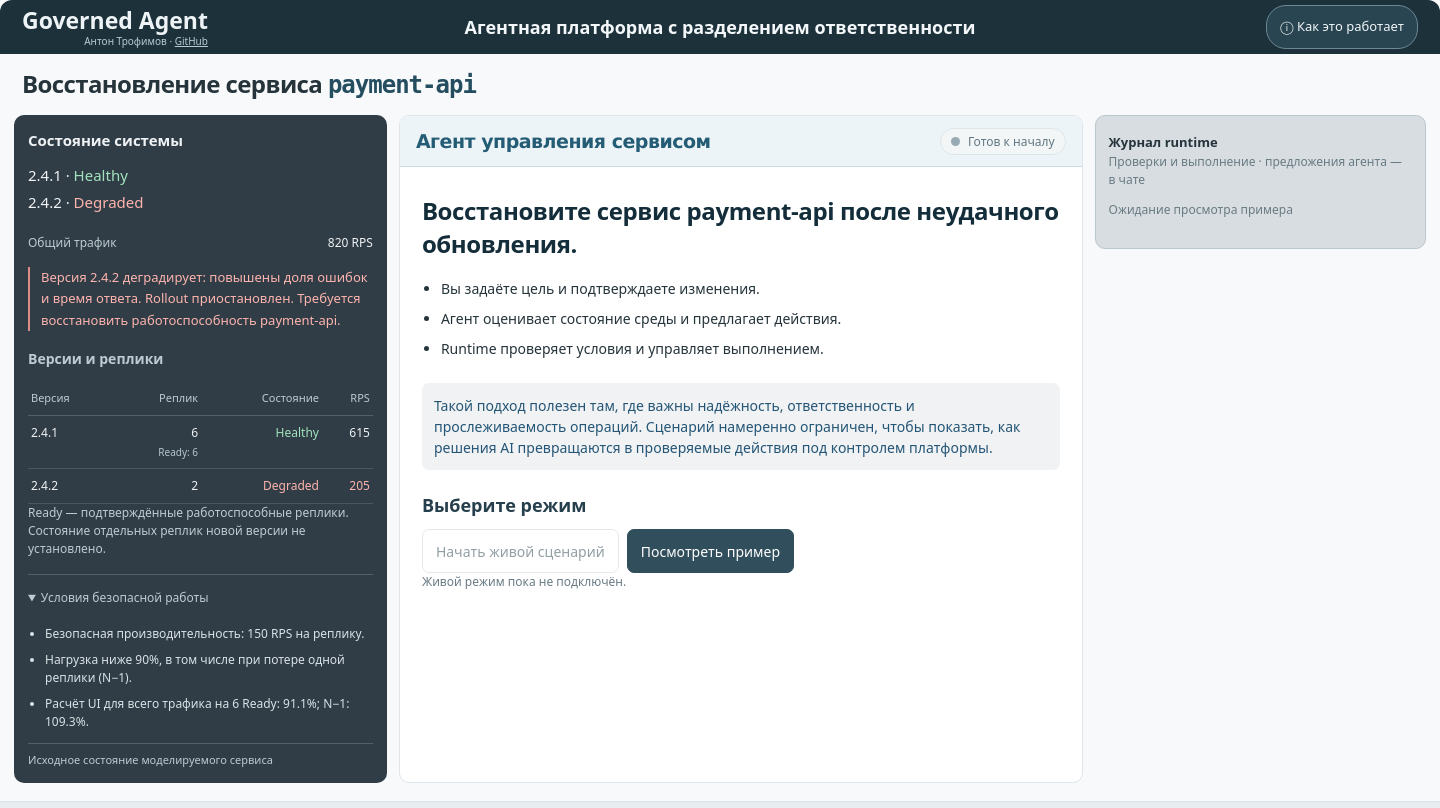
Scenario: ignores a stale response
The width and height of the screenshot is (1440, 808).
Click the button "Посмотреть пример".
click(710, 551)  # box [627,529,794,573]
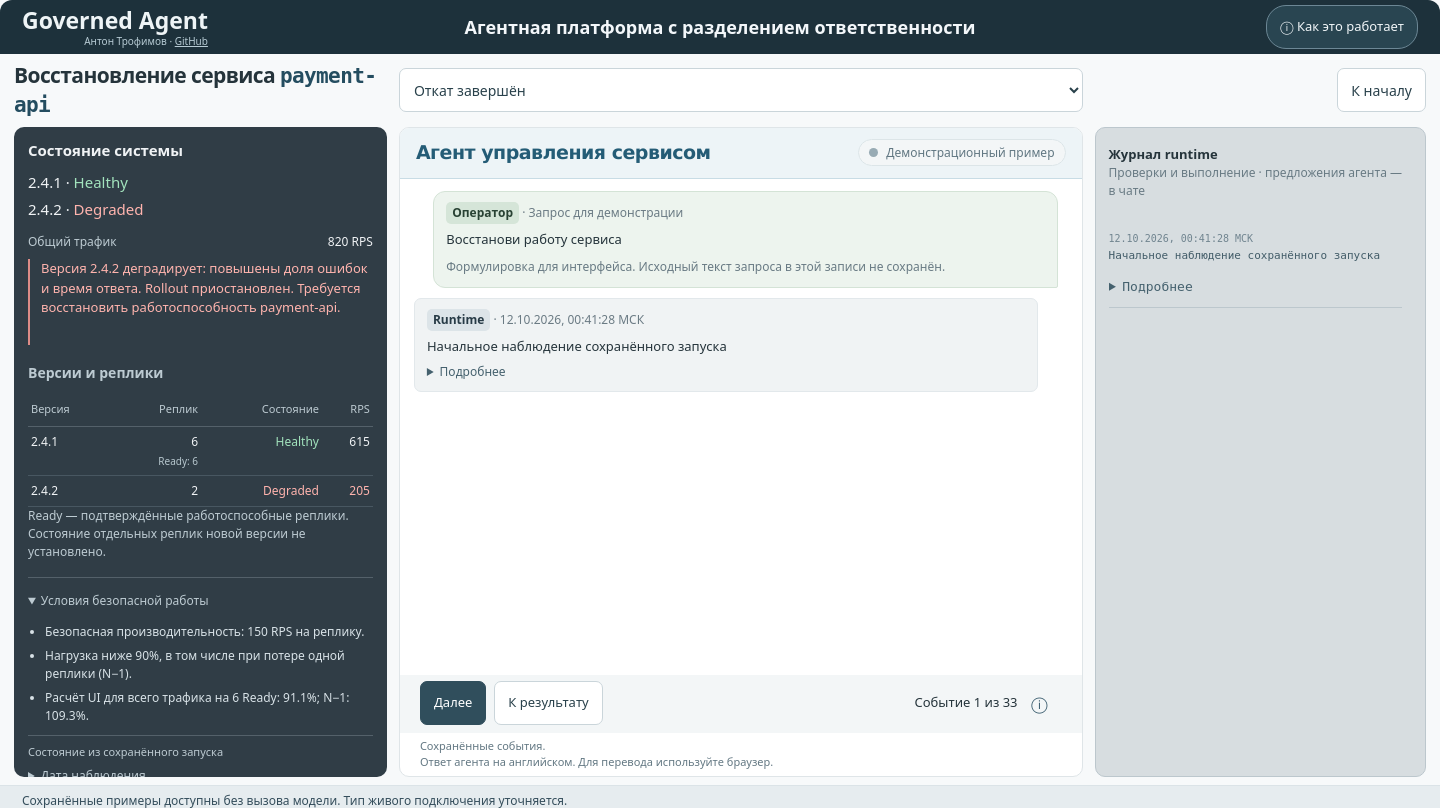
Select "Остановлено после проверки восстановления" in the dropdown named "Демонстрационный пример" at (741, 90), box [399,68,1082,112]
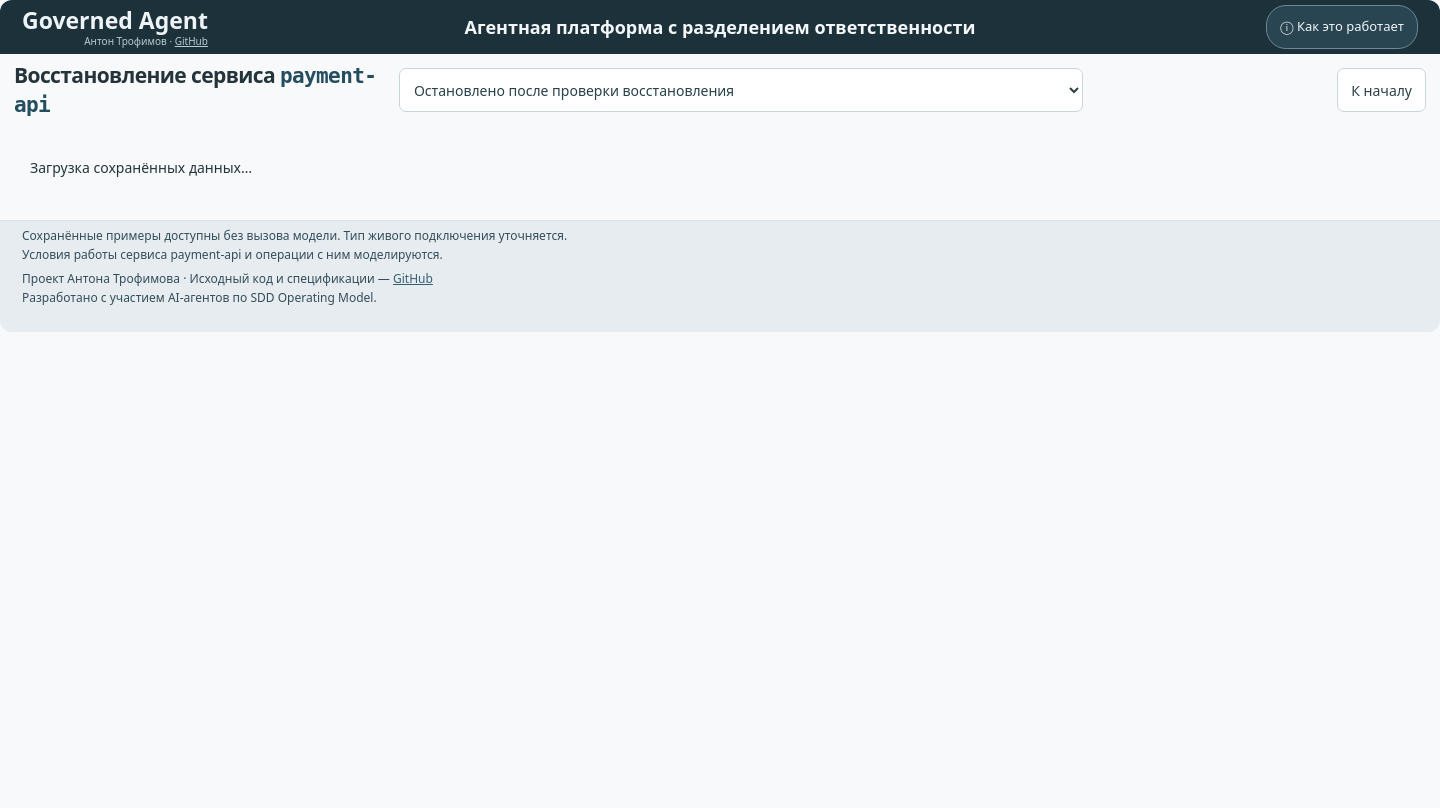
Select "Откат завершён" in the dropdown named "Демонстрационный пример" at (741, 90), box [399,68,1082,112]
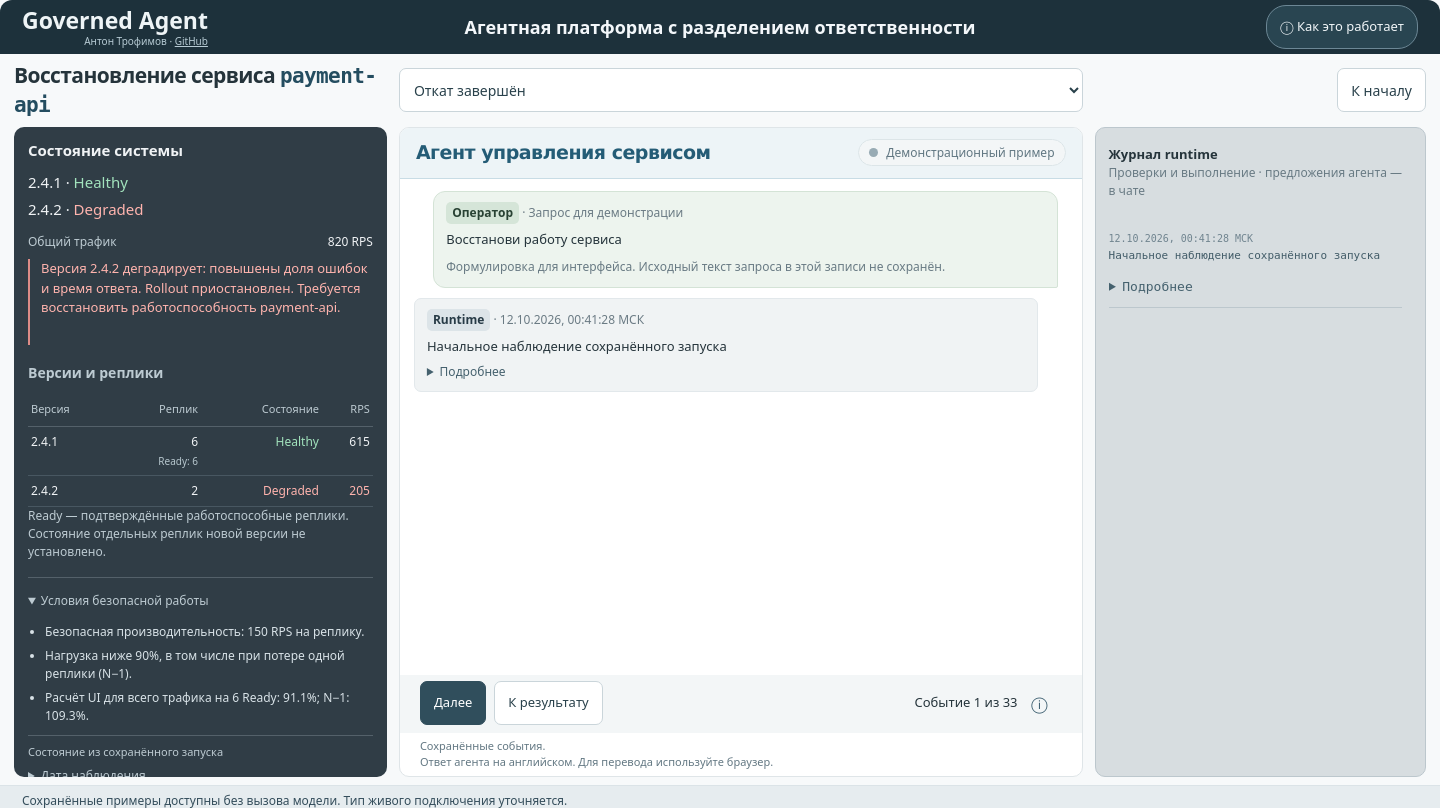
Expected: the button "К результату" is shown
Click the button "К результату".
click(549, 703)  # box [494,681,603,725]
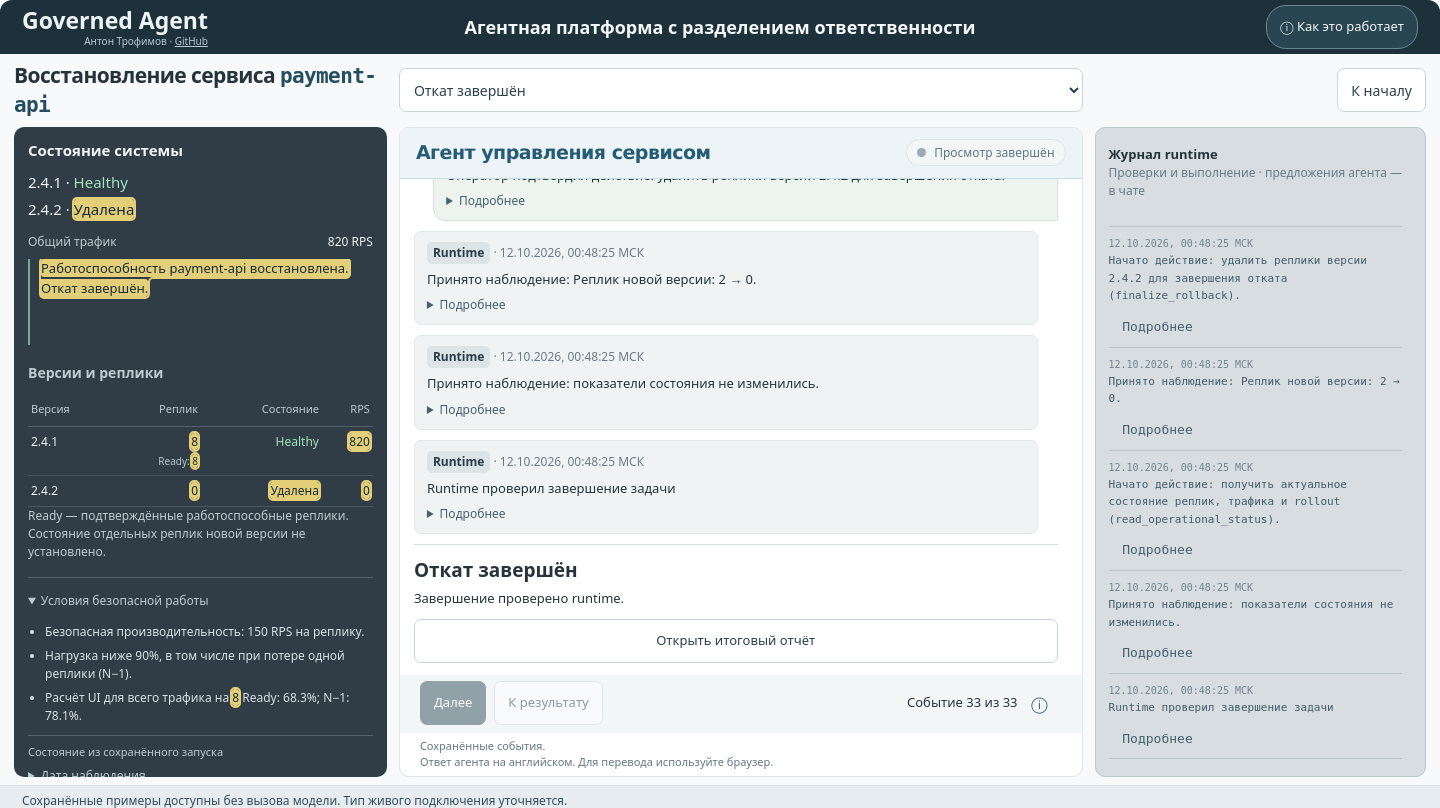
Expected: the heading "Откат завершён" is shown, [414,557,578,583]
